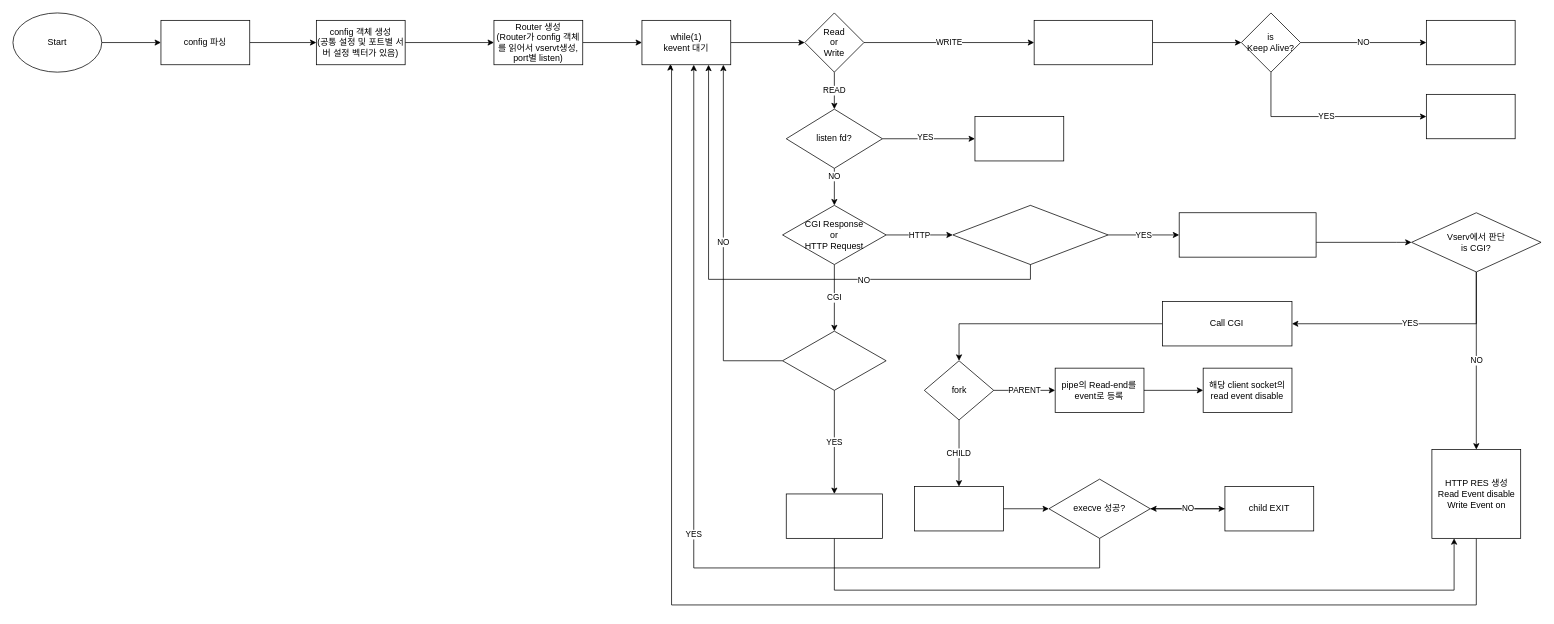
Some shapes in this 1554 by 624 pixel diagram are drawn without their labels. The shapes that lost their labels are listed below. From the top down, each one's box as (x1, y1, x2, y2) in pixels, then its label:
(1033, 20, 1153, 65): client에 송신
(1426, 20, 1515, 65): Socket close
(1426, 94, 1515, 139): Socket maintain
(952, 205, 1108, 265): HTTP REQ 파싱 REQ 수신 완료?
(1178, 212, 1316, 257): 요청에 맞는 VServ로 라우팅
(782, 330, 886, 390): CGI Response 완성?
(786, 493, 882, 538): CGI 파싱 후 HTTP response로 변환
(914, 486, 1003, 531): 해당 CGI execve
